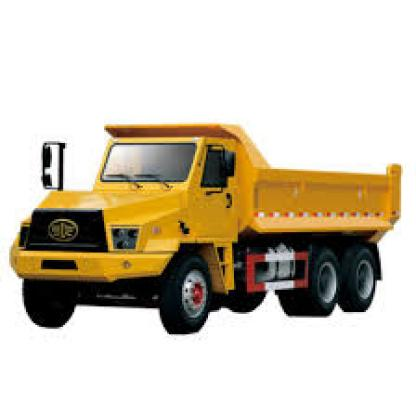dump_truck: (4, 110, 405, 347)
